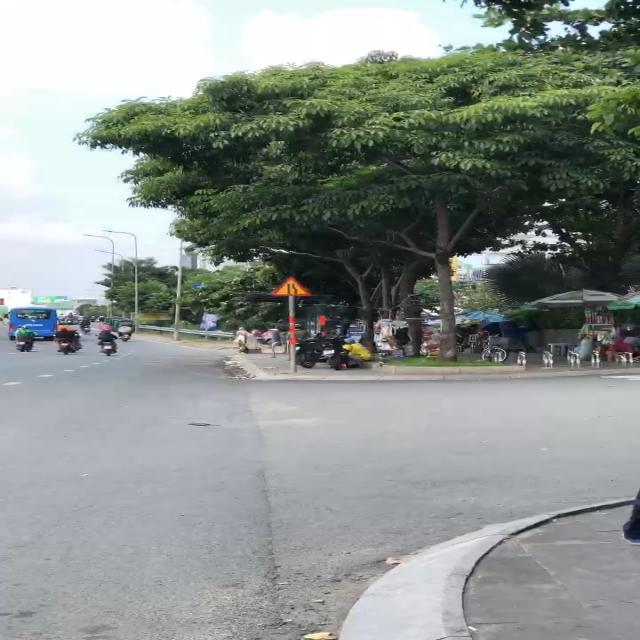Bien bao duong bi thu hep: (267, 273, 315, 298)
